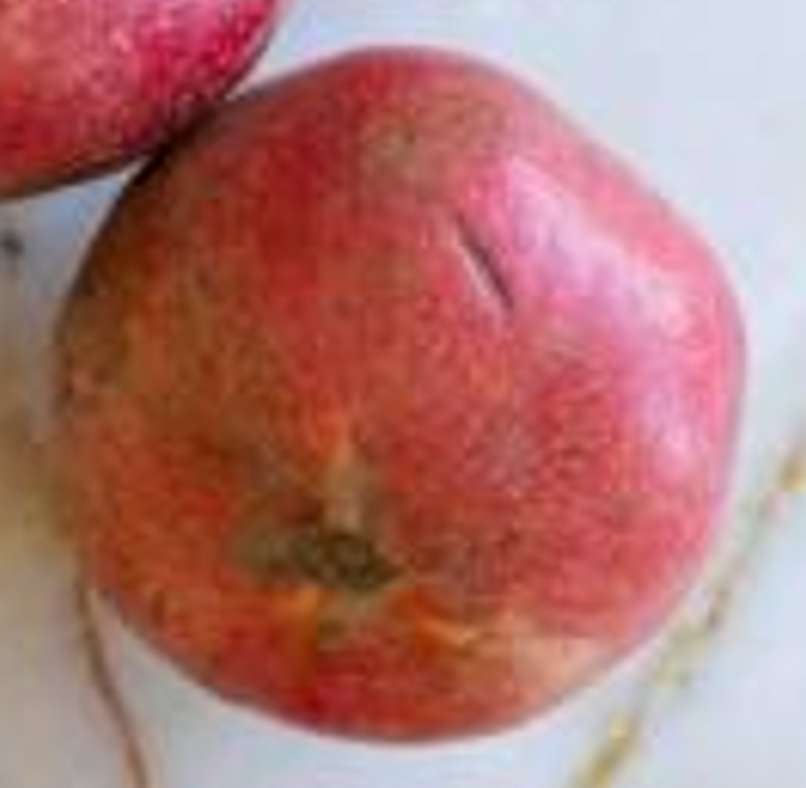pomegranate_B: (48, 43, 750, 745)
